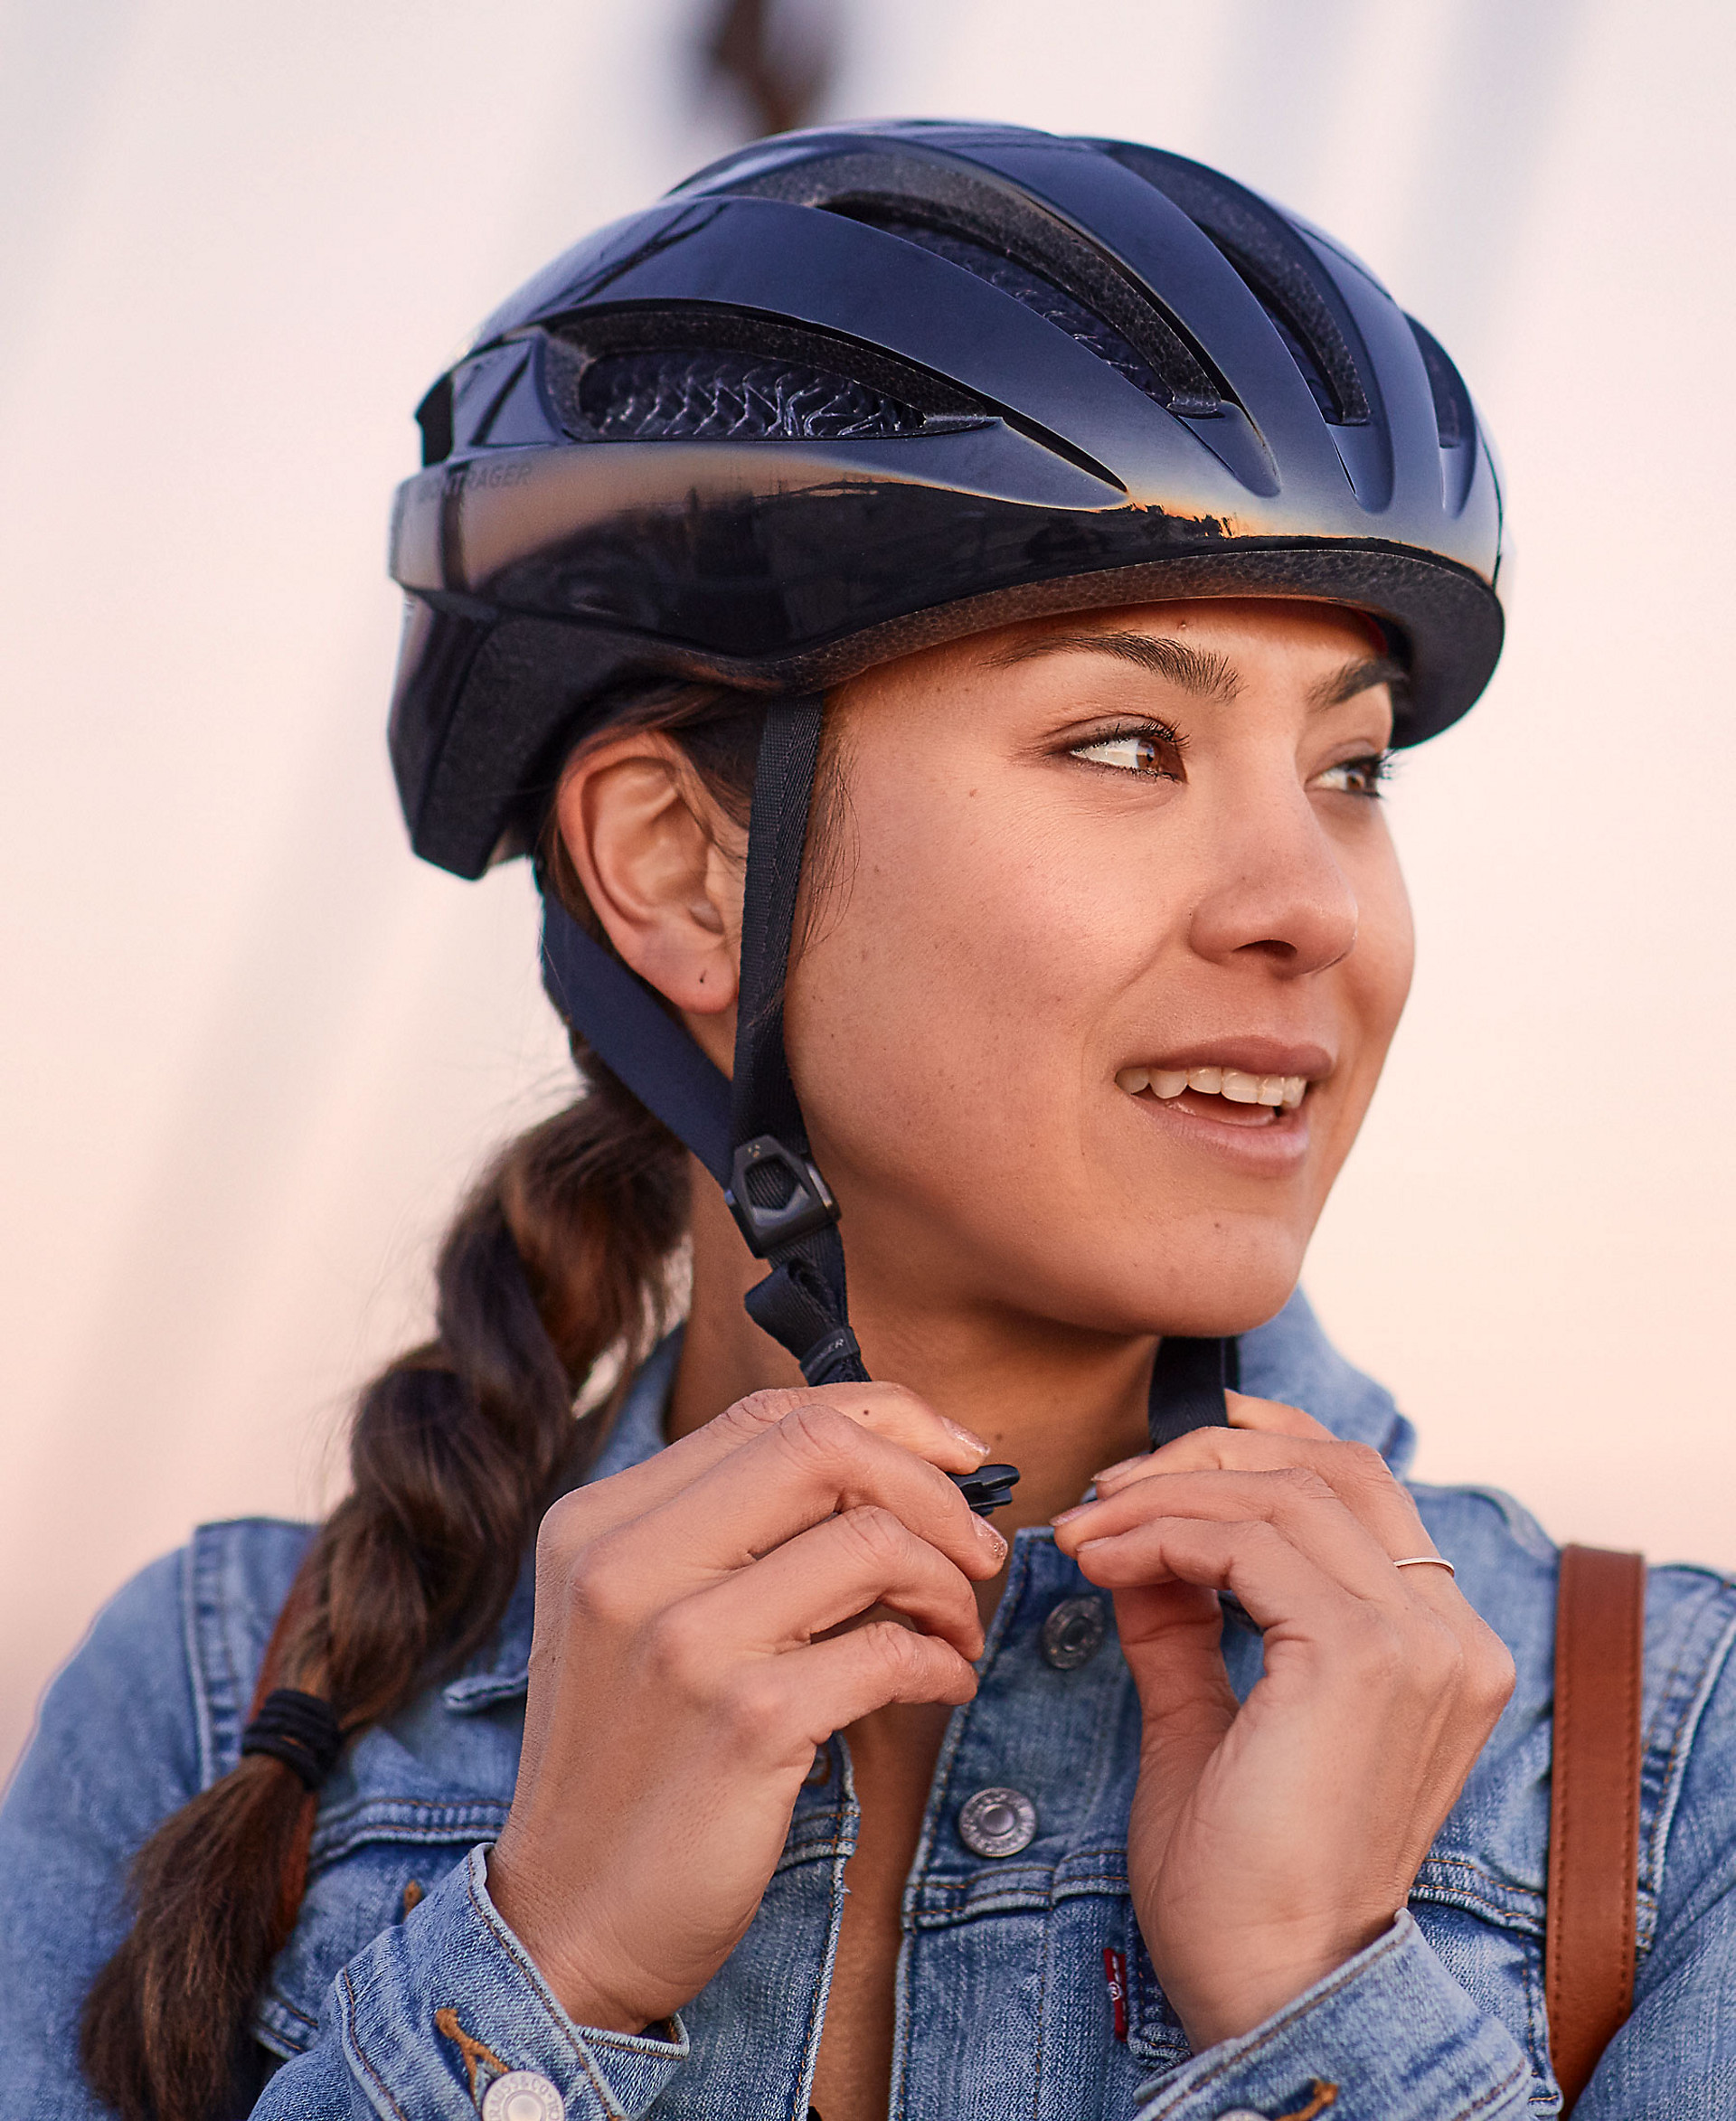helmet: (388, 116, 1514, 1335)
